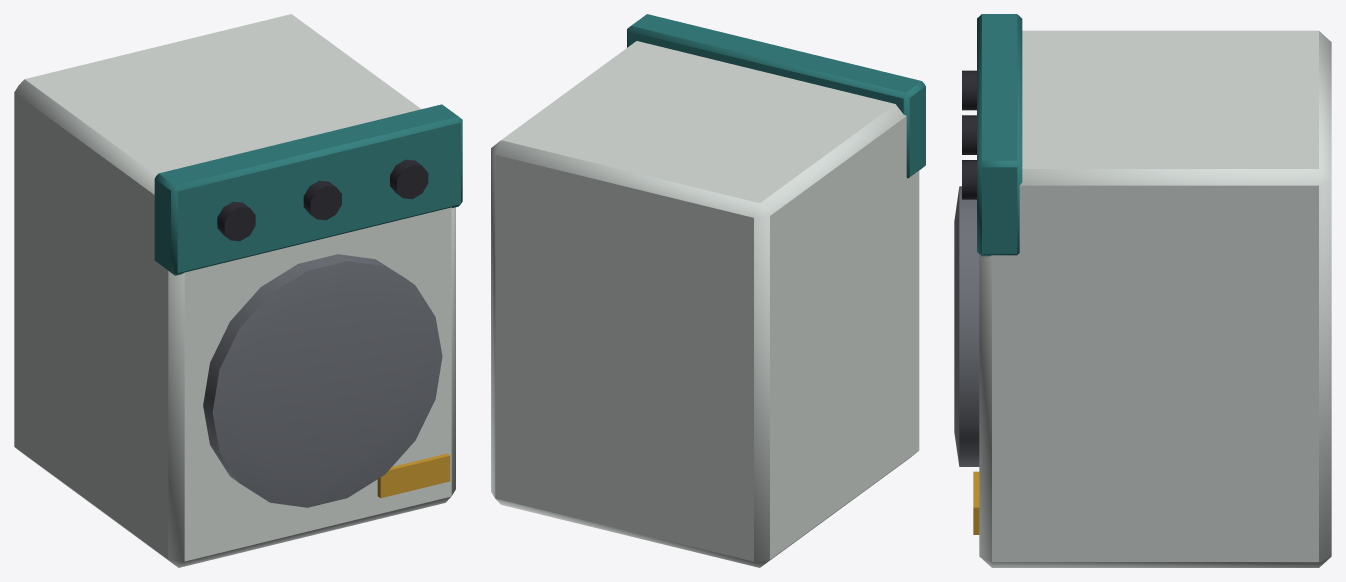
File: washer.glb
The picture shows the model from 3 angles, left to right: view 1: azimuth 30°, elevation 25°; view 2: azimuth 150°, elevation 25°; view 3: azimuth 270°, elevation 25°; orthographic projection. The views are drawn at different scales.
Parts seen in each view (by area): view 1: washer; view 2: washer; view 3: washer.
Boxes of the visible parts, left/top/right/bottom form: washer: left=14, top=14, right=462, bottom=567; washer: left=491, top=14, right=925, bottom=567; washer: left=954, top=14, right=1331, bottom=567.
Bounding box in the file's own units: 1.42 × 1.81 × 1.5.
